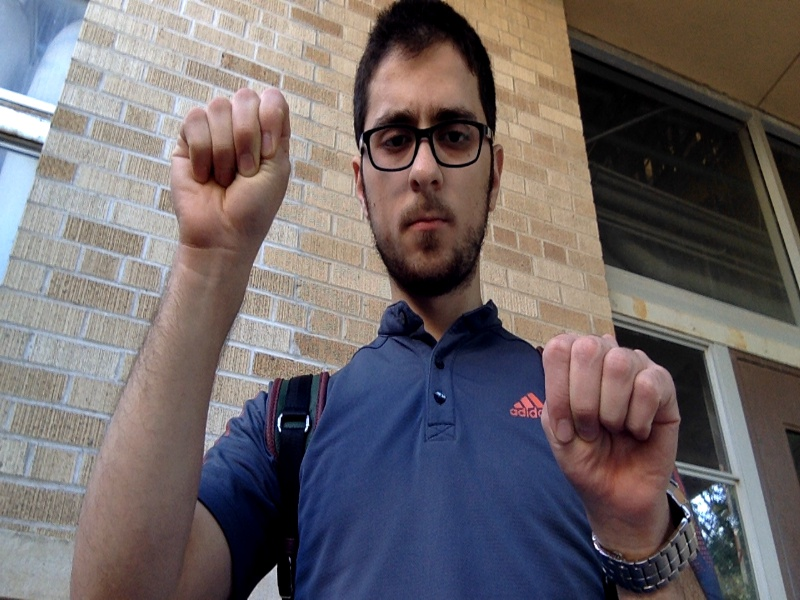0-hand: (541, 332, 678, 516), (169, 88, 290, 256)
